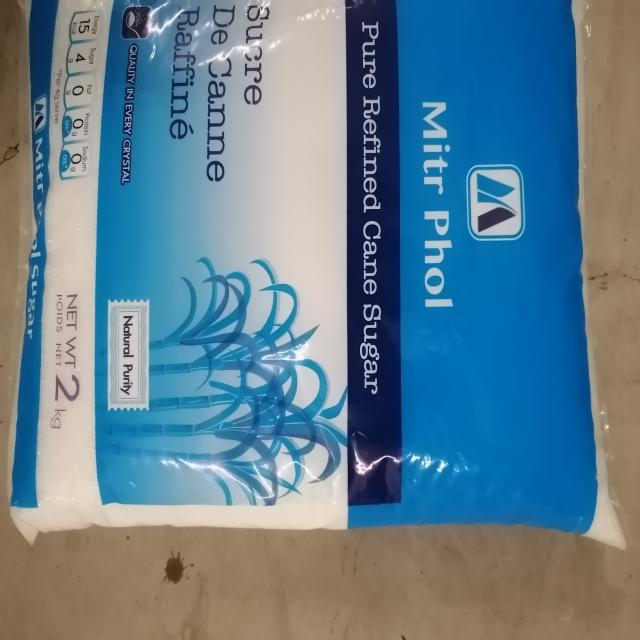object_name: (24, 3, 609, 525)
